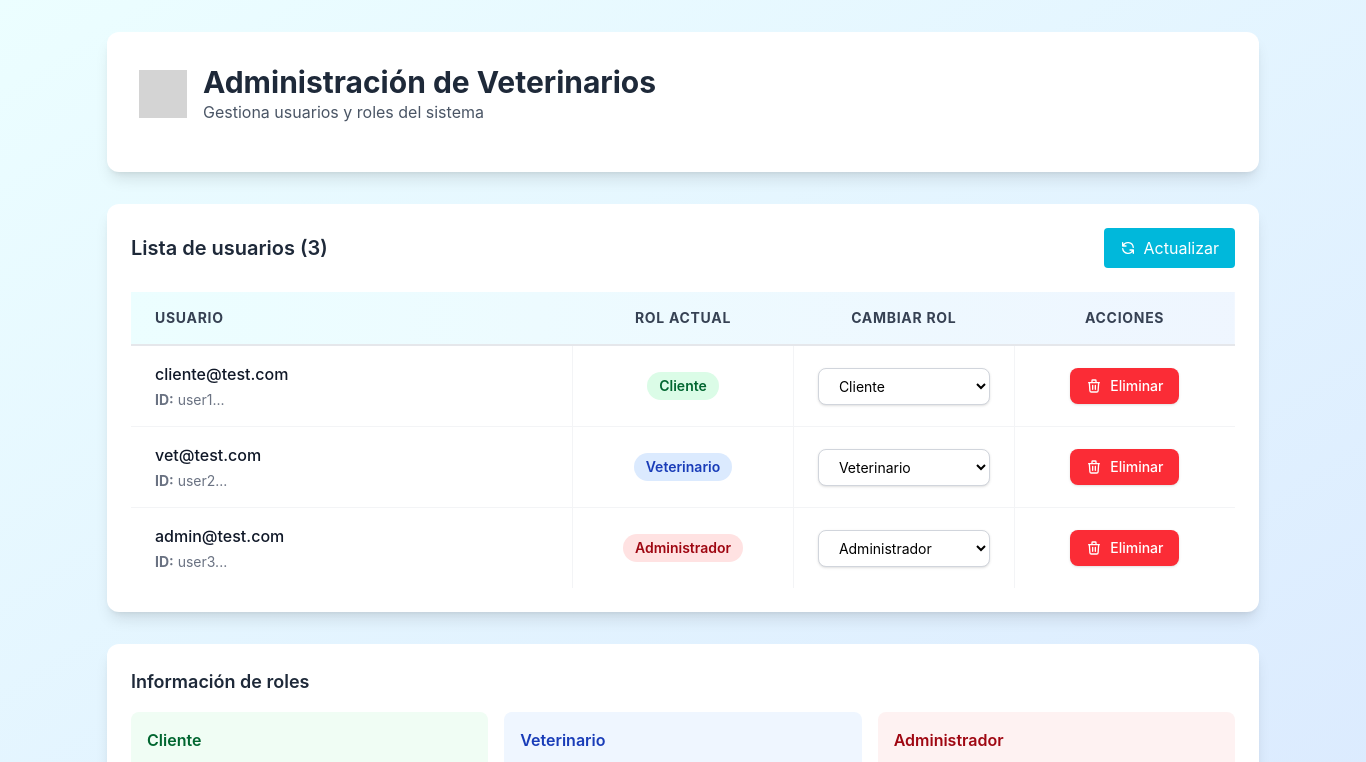
Scenario: AdminVets › permite cancelar cambios pendientes
Select "Veterinario" in the dropdown in the row of "cliente@test.com": (904, 386) [818,368,990,404]
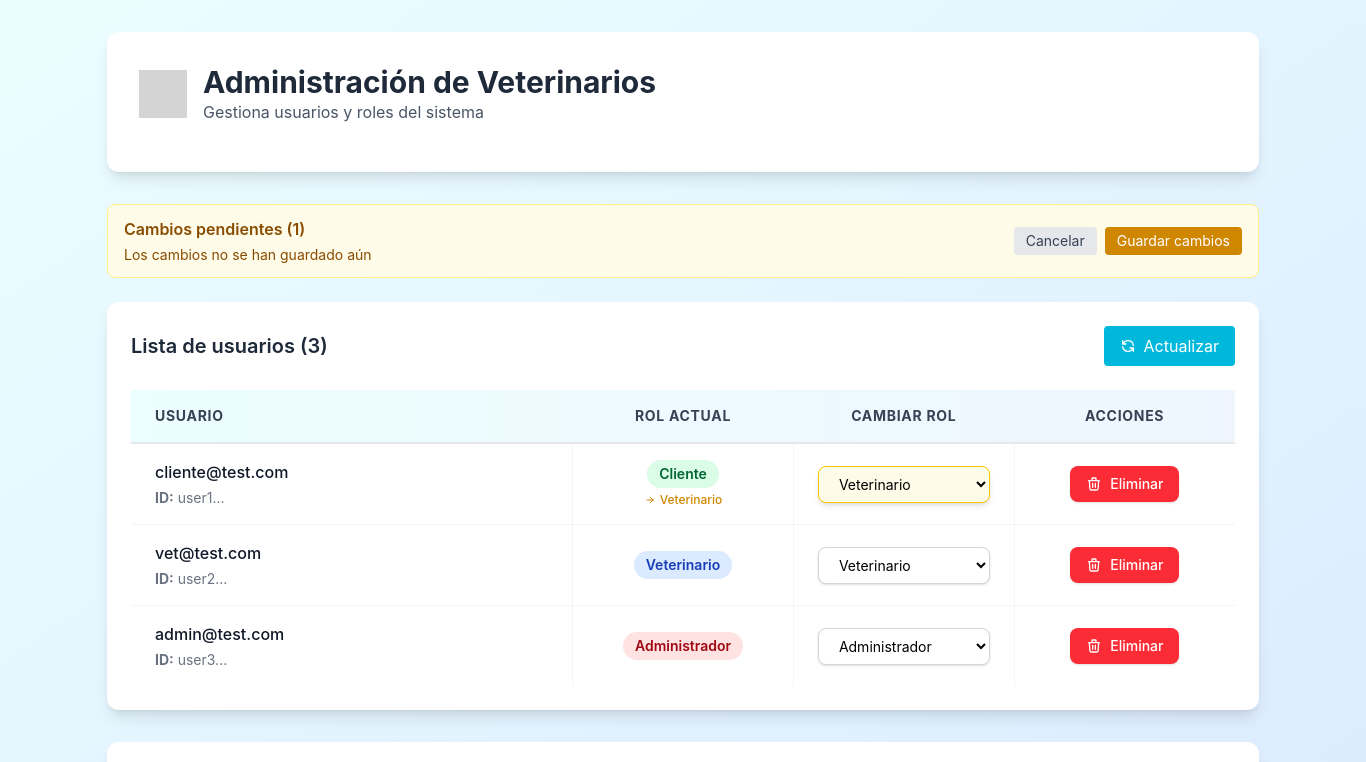
expect the heading "Cambios pendientes (1)" is shown: met, box [124,219,305,239]
Click the button "Cancelar": click(1055, 241) [1014,227,1097,255]
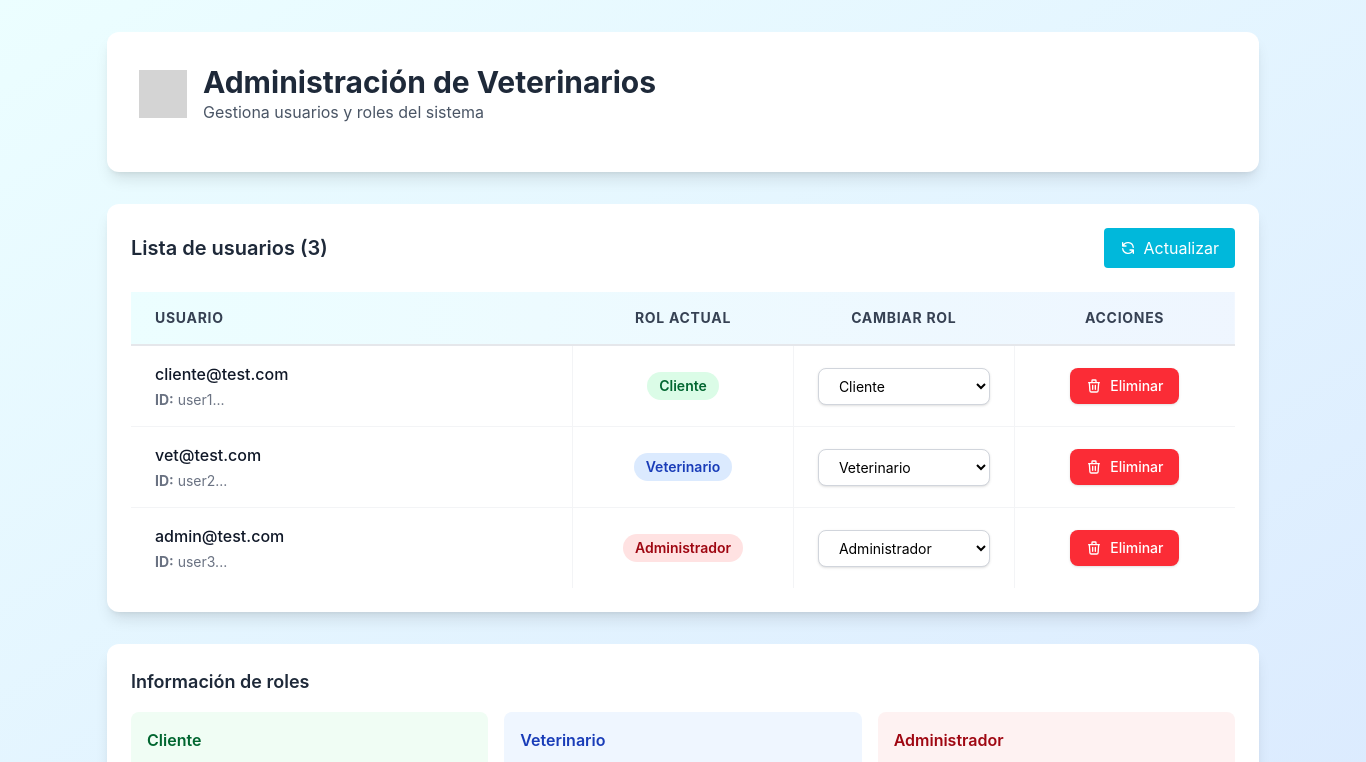
expect the heading "Cambios pendientes (1)" is gone: met
